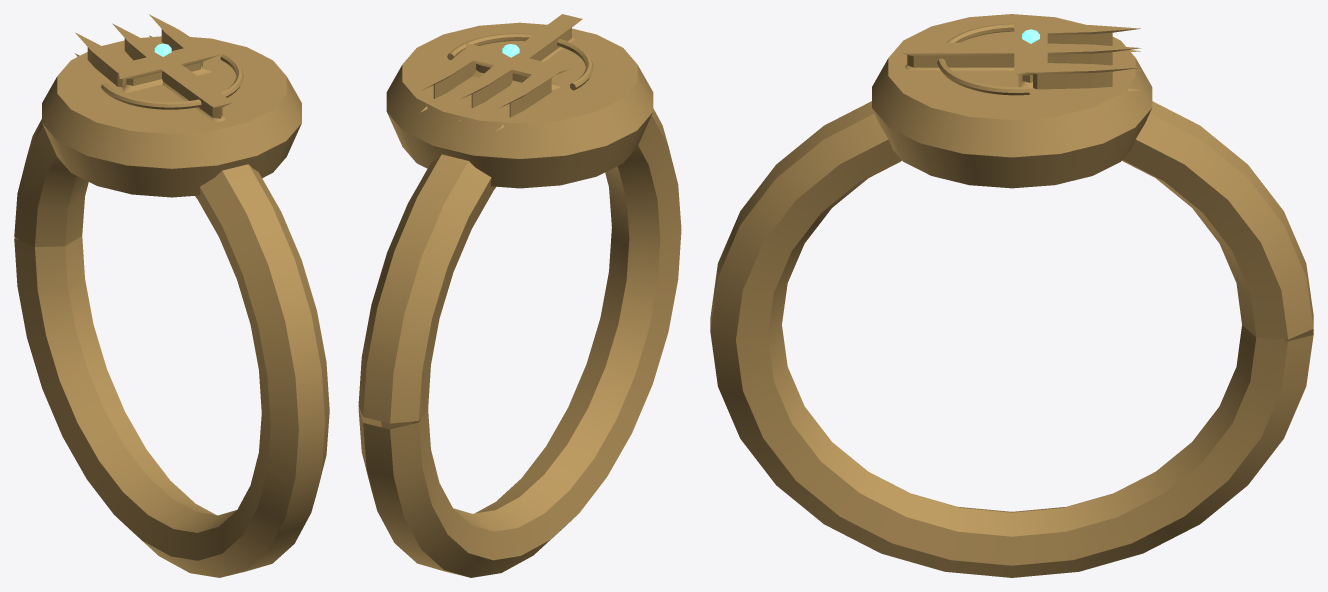
Rendered from boss_sunken_crown_accessory_1.glb.
The picture shows the model from 3 angles, left to right: view 1: azimuth 30°, elevation 25°; view 2: azimuth 150°, elevation 25°; view 3: azimuth 270°, elevation 25°; orthographic projection. The views are drawn at different scales.
Visible parts, largest first — view 1: boss_sunken_crown_accessory_1; view 2: boss_sunken_crown_accessory_1; view 3: boss_sunken_crown_accessory_1.
Part boxes in pixels (bbox=[...]): boss_sunken_crown_accessory_1: bbox=[14, 14, 329, 577]; boss_sunken_crown_accessory_1: bbox=[358, 14, 681, 577]; boss_sunken_crown_accessory_1: bbox=[710, 14, 1313, 577].
Size of the model in its own units: 0.068 by 0.1425 by 0.1442.
